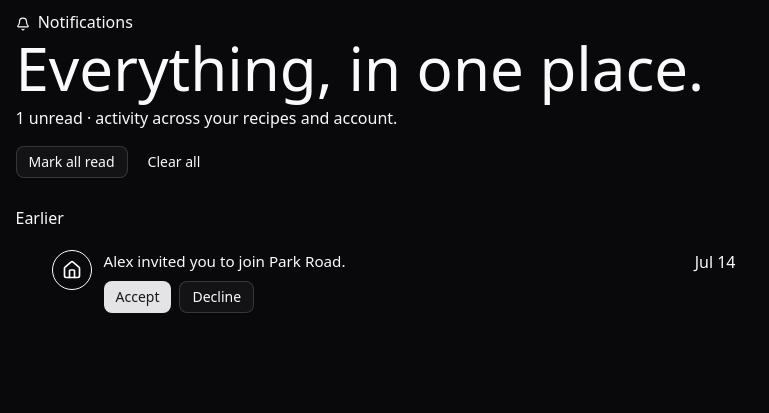
Test: NotificationsView › clears every notification from the archive
Click the button "Clear all".
click(174, 162)  # box [136,146,212,178]
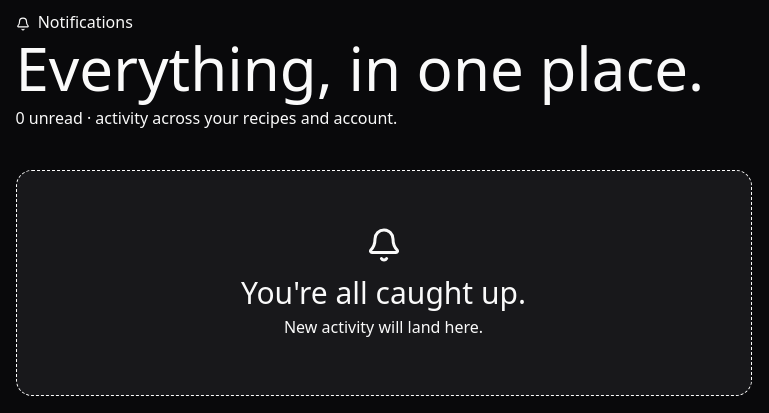
Result: the heading "You're all caught up." is shown at [241,272,526,313]
Result: the text "invited you to join Park Road" is gone
